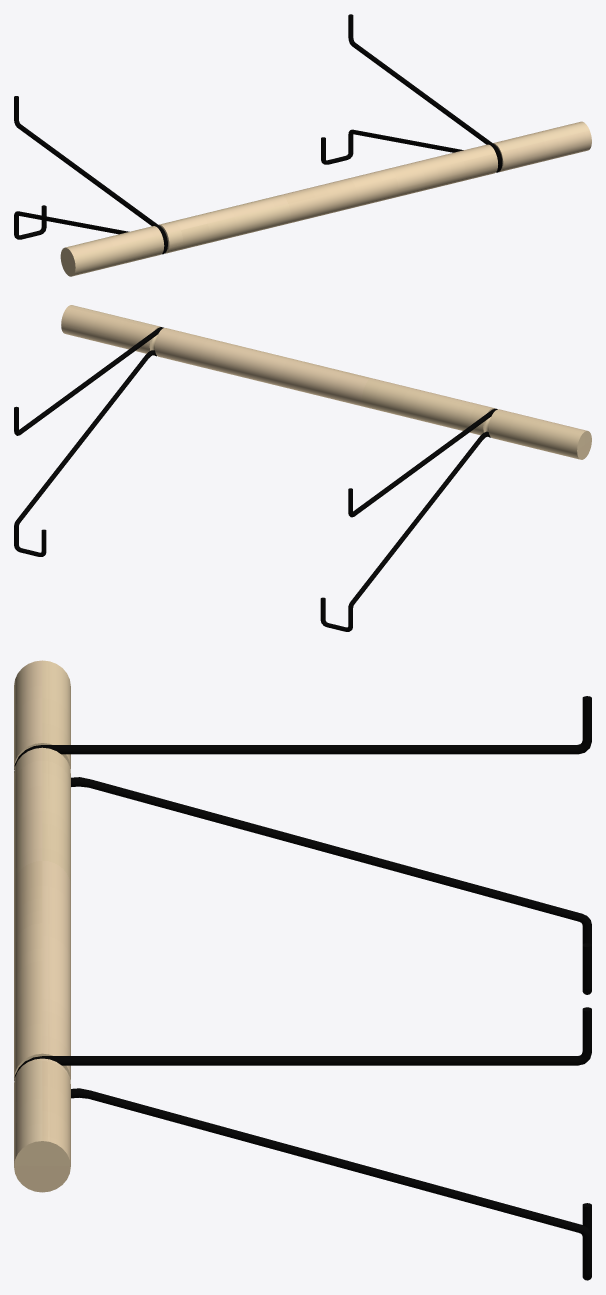
The model's file is wardrobe60.glb.
3 views of the same model, one above another, from view 1: azimuth 30°, elevation 25°; view 2: azimuth 150°, elevation 25°; view 3: azimuth 270°, elevation 25° (orthographic). The views are drawn at different scales.
Visible parts, largest first — view 1: Geom3D (×3); view 2: Geom3D (×3); view 3: Geom3D (×3).
Part boxes in pixels (bbox=[...]): Geom3D (×3): bbox=[14, 14, 591, 276]; Geom3D (×3): bbox=[14, 305, 591, 631]; Geom3D (×3): bbox=[14, 660, 591, 1280].
Bounding box in the file's own units: 0.6 × 0.1593 × 0.305.
2 materials, 1 textured.
